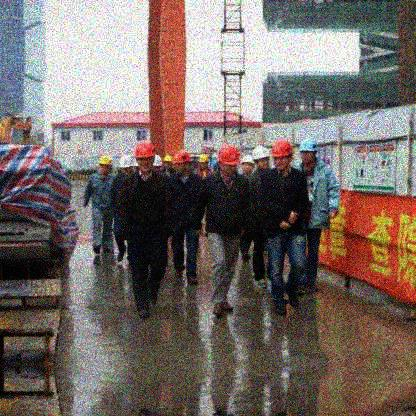helmet: (217, 145, 242, 182), (272, 141, 295, 176), (133, 139, 155, 175), (299, 138, 318, 167), (253, 146, 272, 172), (174, 150, 190, 179), (98, 155, 114, 176), (119, 154, 132, 177), (242, 154, 254, 177), (198, 153, 209, 170), (164, 153, 172, 172)
